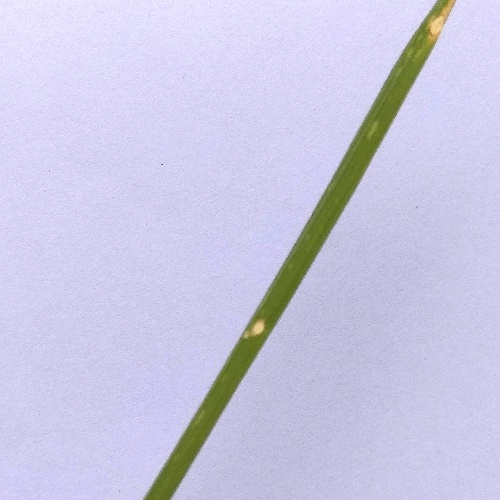Busuk Leher: (428, 10, 458, 40), (241, 313, 272, 341)
